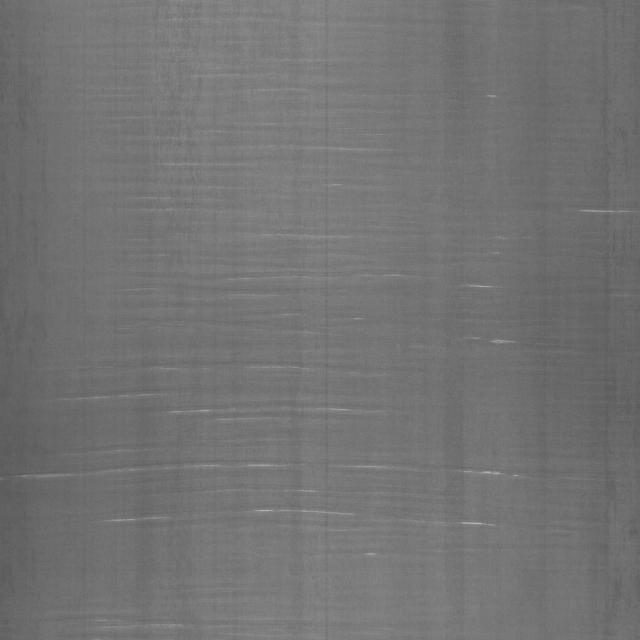punching_hole: (49, 33, 493, 568)
